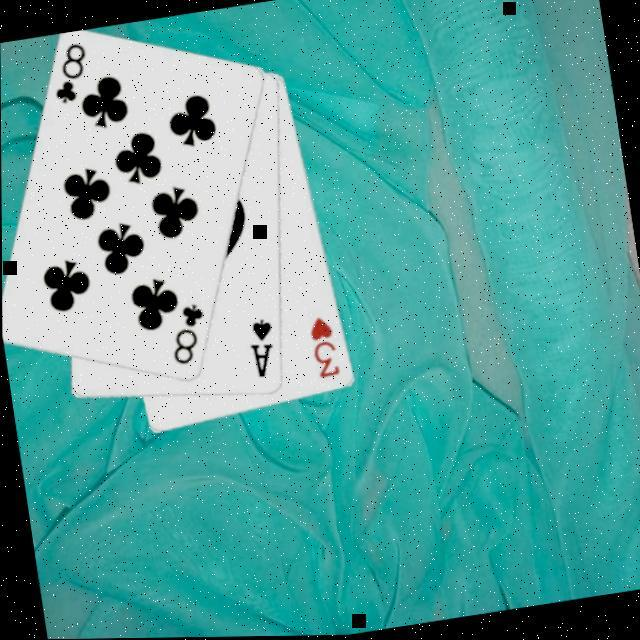3H: (306, 314, 344, 384)
8C: (45, 40, 97, 111), (163, 300, 214, 371)
AS: (243, 316, 282, 384)
